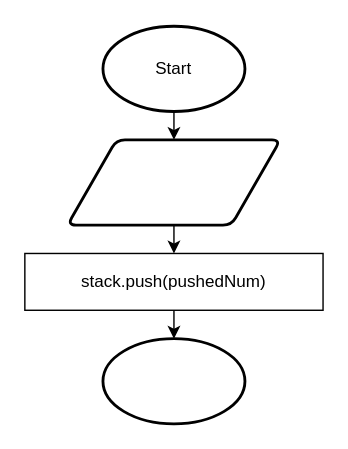
Some shapes in this 348 by 449 pixel diagram are drawn without their labels. Here are the shapes that lost their labels. From the top down, the centre of each, then its label:
At (173,182): "get pushedNum".
At (173,381): "Stop".
